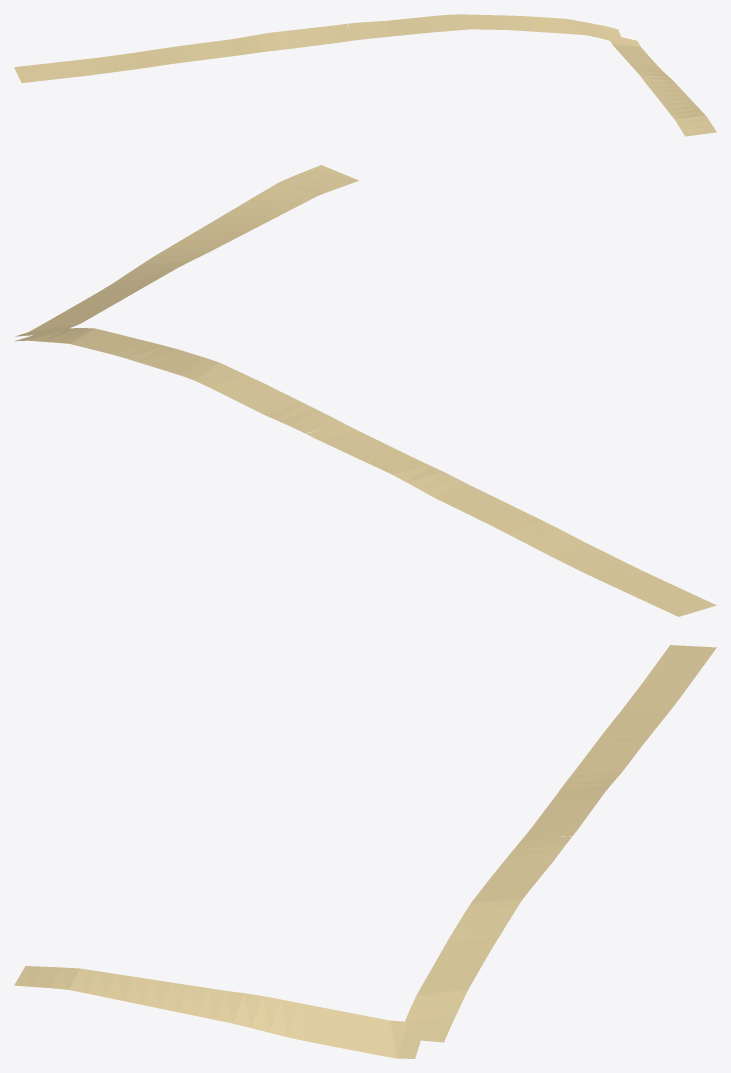
File: Trail_12.glb
The picture shows the model from 3 angles, top to bottom: view 1: azimuth 30°, elevation 25°; view 2: azimuth 150°, elevation 25°; view 3: azimuth 270°, elevation 25°; orthographic projection. The views are drawn at different scales.
Parts seen in each view (by area): view 1: Trail_12; view 2: Trail_12; view 3: Trail_12.
Boxes of the visible parts, <box> form: Trail_12: <box>14,14,716,136</box>; Trail_12: <box>14,165,716,616</box>; Trail_12: <box>14,645,716,1058</box>.
Bounding box in the file's own units: 32.21 × 2.15 × 25.2.
